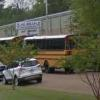Bus: (19, 30, 84, 75)
